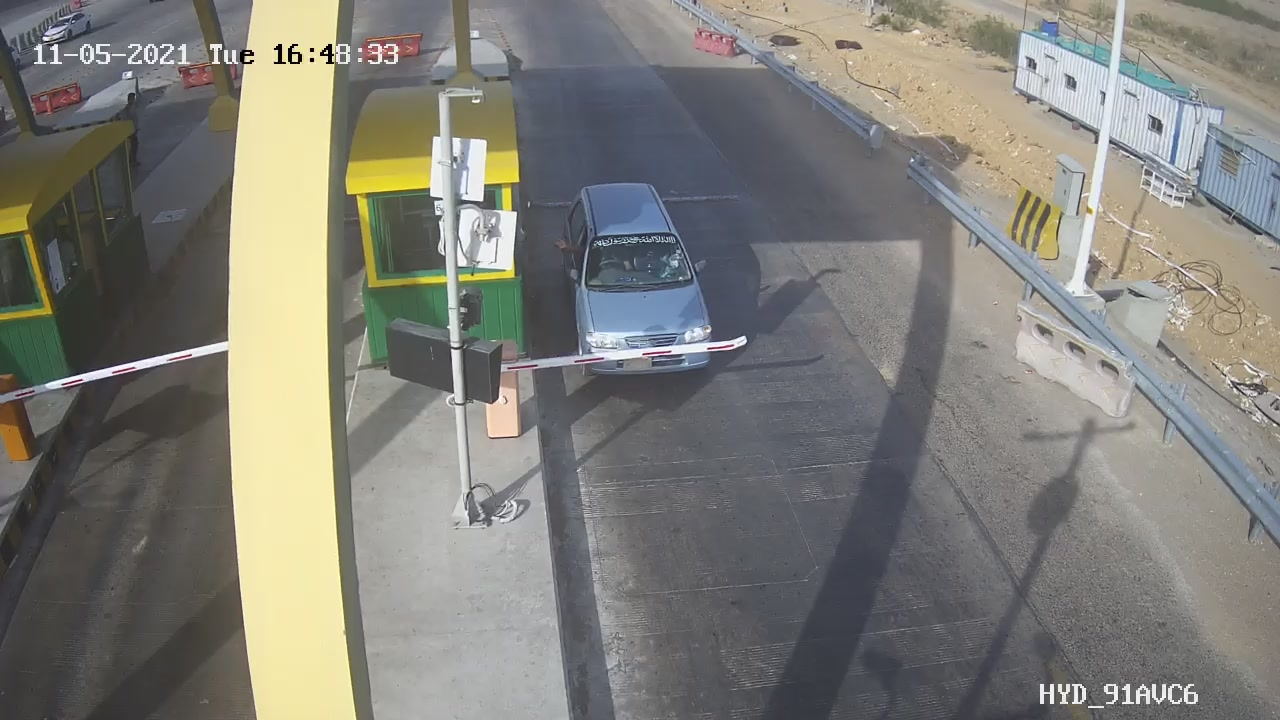F1: (546, 172, 740, 391)
